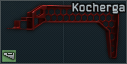AKM%5AK-74 Hexagon "Kocherga" stock Anodized Red: (0, 0, 127, 64)
